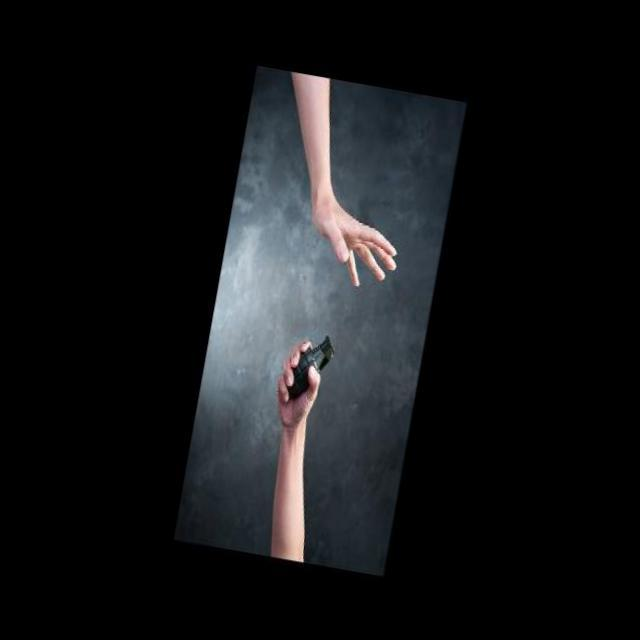grenade: (284, 316, 342, 414)
